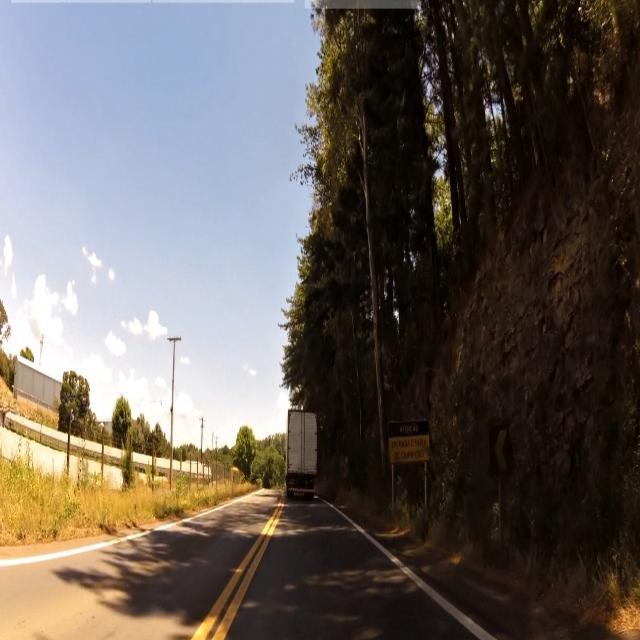Del: (488, 422, 513, 475)
